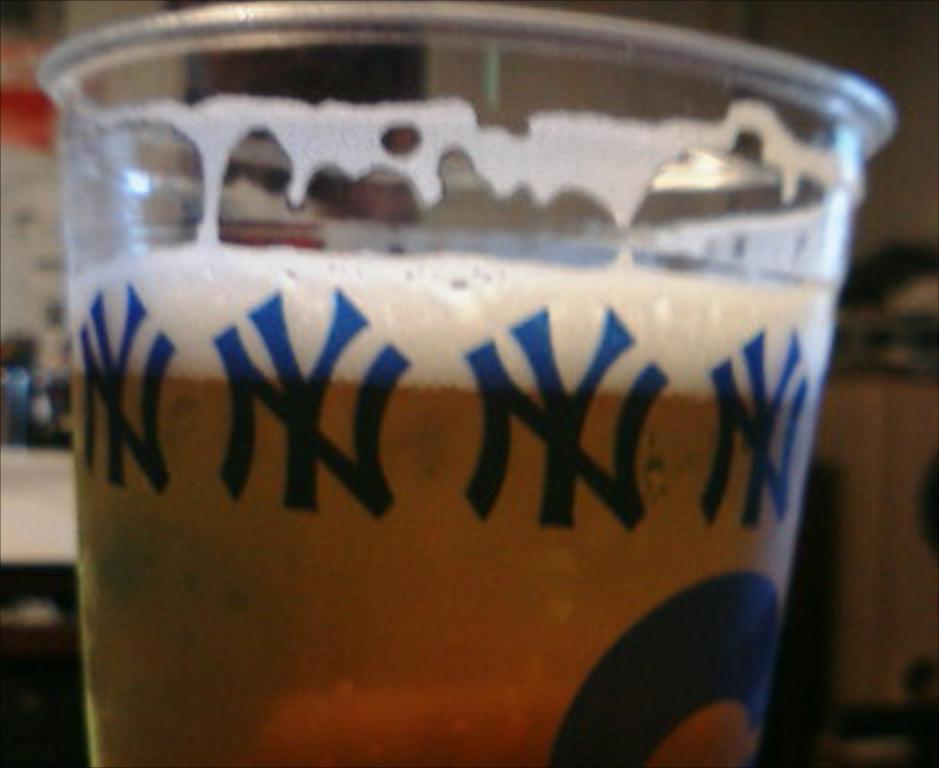Beer: (85, 245, 834, 765)
